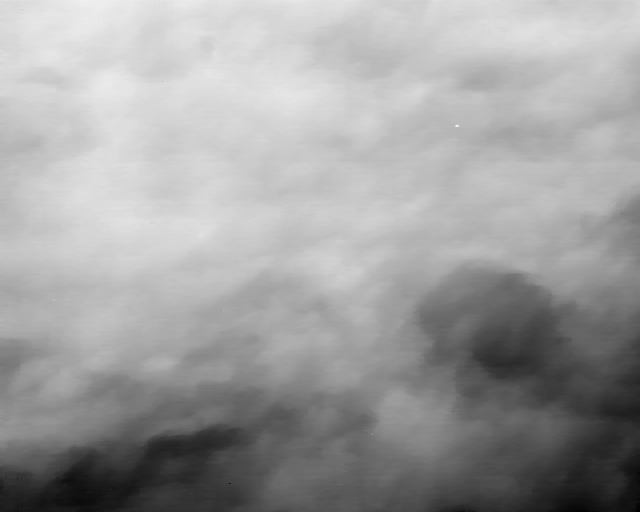Target: (455, 125, 460, 129)
